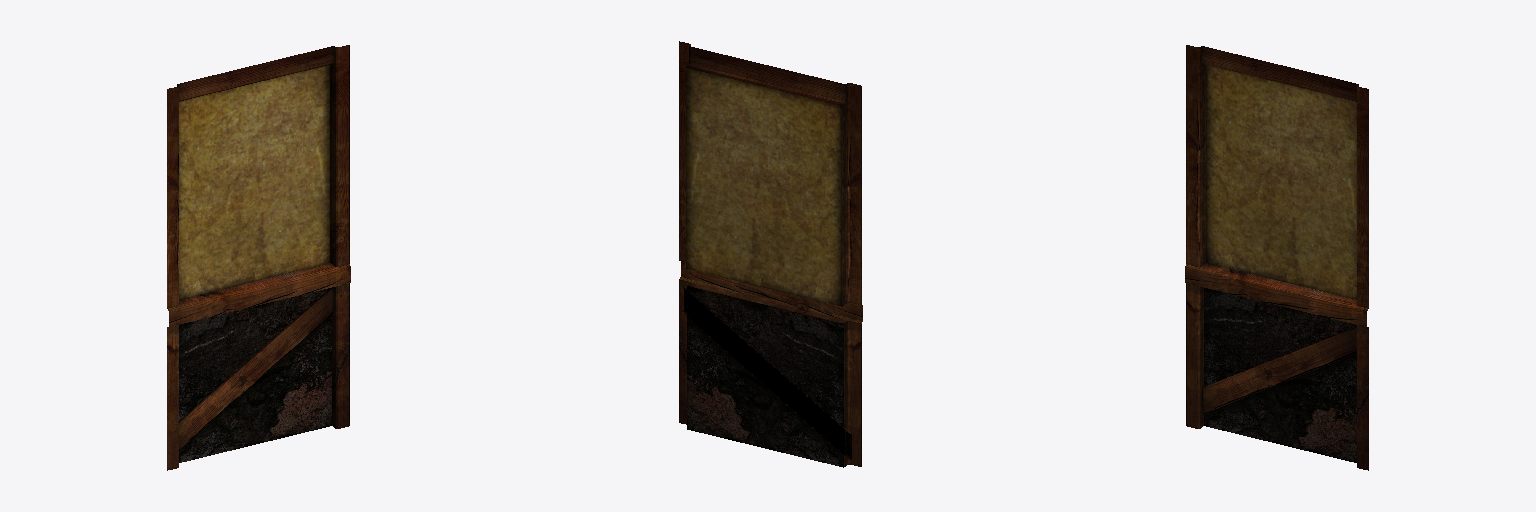
3 renders of one model, left to right at view 1: azimuth 30°, elevation 25°; view 2: azimuth 150°, elevation 25°; view 3: azimuth 330°, elevation 25°, orthographic.
Visible parts, largest first — view 1: Wall001_M021; view 2: Wall001_M021; view 3: Wall001_M021.
Boxes of the visible parts, x1,y1,x2,y2 form: Wall001_M021: [167, 45, 350, 470]; Wall001_M021: [679, 41, 862, 467]; Wall001_M021: [1185, 45, 1368, 470].
Size of the model in its own units: 128 by 256 by 9.62.
1 materials, 1 textured.